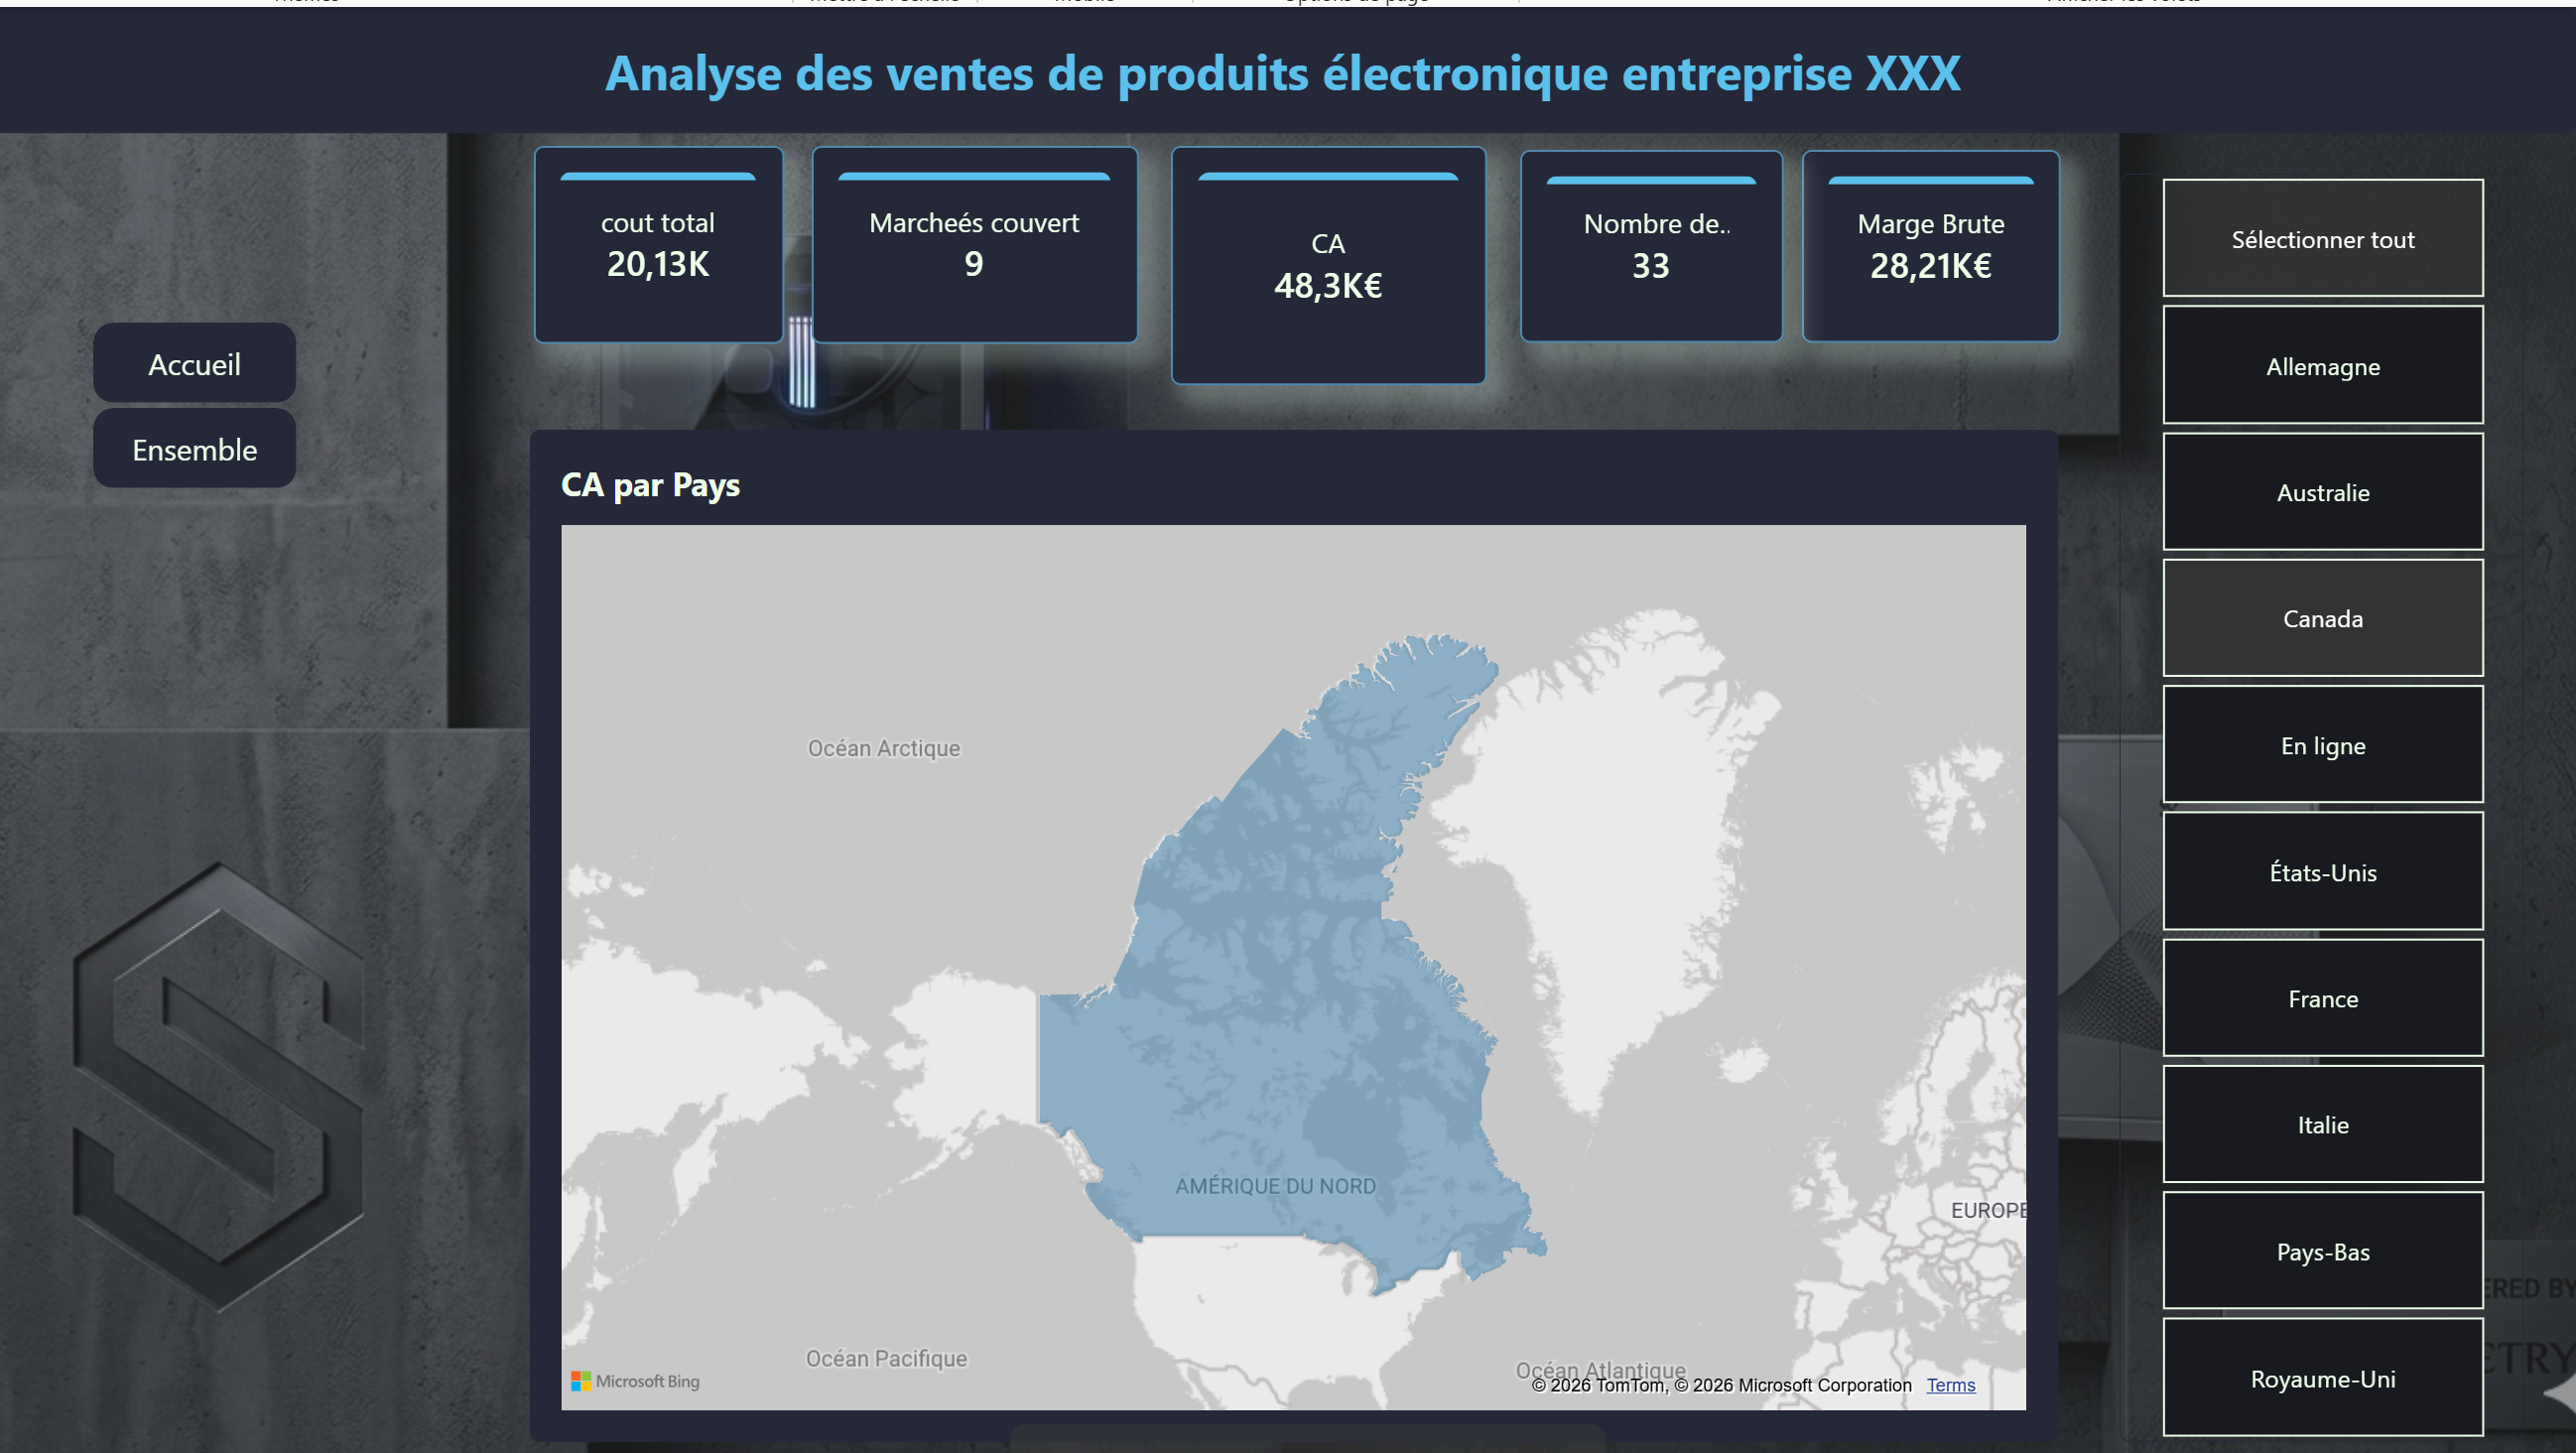

Layout of this report page (visuals, bound fields, positions):
{"tool":"powerbi","page":{"name":"Accueil","canvas":[1280,720],"ordinal":0},"visuals":[{"type":"filledMap","fields":{"Category":["Ventes.Pays"]},"box":[267.2,209.2,756.3,501],"z":0},{"type":"cardVisual","fields":{"Data":["Ventes.cout total"]},"box":[269.5,68.5,123.9,97.8],"z":1000},{"type":"cardVisual","fields":{"Data":["Ventes.Marge Brute"]},"box":[896.4,70.6,128.2,95.6],"z":2000},{"type":"cardVisual","fields":{"Data":["Ventes.CA"]},"box":[584.6,68.5,156.5,118.4],"z":3000},{"type":"shape","box":[0,0,1280,62.3],"z":4000},{"type":"slicer","fields":{"Values":["Ventes.Pays"]},"box":[1054.3,82.9,200.2,627.3],"z":5000},{"type":"cardVisual","fields":{"Data":["Ventes.Marcheés couvert"]},"box":[406.4,68.5,161.9,97.8],"z":6000},{"type":"actionButton","box":[50.9,156.4,100.6,39.7],"z":7000},{"type":"actionButton","box":[50.9,198.6,100.6,39.7],"z":8000},{"type":"cardVisual","fields":{"Data":["Ventes.Nombre de commandes"]},"box":[757.4,70.6,130.4,95.6],"z":9000}]}

Visuals, with their boxes on the page's 1280x720 design canvas (x1, y1, x2, y2). These are canvas units, not pixel positions in the 2576x1453 screenshot, which may show the page scaled, cropped or inside an application window:
filledMap - Ventes.Pays: x1=267 y1=209 x2=1024 y2=710
cardVisual - Ventes.cout total: x1=270 y1=68 x2=393 y2=166
cardVisual - Ventes.Marge Brute: x1=896 y1=71 x2=1025 y2=166
cardVisual - Ventes.CA: x1=585 y1=68 x2=741 y2=187
shape: x1=0 y1=0 x2=1280 y2=62
slicer - Ventes.Pays: x1=1054 y1=83 x2=1254 y2=710
cardVisual - Ventes.Marcheés couvert: x1=406 y1=68 x2=568 y2=166
actionButton: x1=51 y1=156 x2=152 y2=196
actionButton: x1=51 y1=199 x2=152 y2=238
cardVisual - Ventes.Nombre de commandes: x1=757 y1=71 x2=888 y2=166
